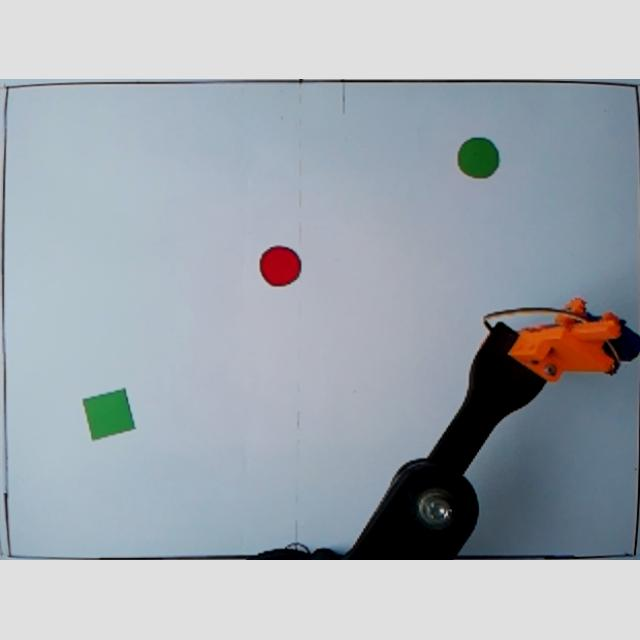greenCircle: (458, 138, 498, 182)
greenSquare: (82, 391, 134, 442)
redCircle: (258, 246, 304, 288)
